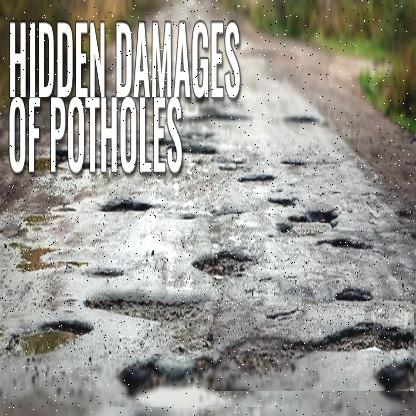damage: (214, 306, 416, 392)
pothole: (186, 233, 266, 297)
pothole_water: (109, 354, 263, 408), (7, 302, 101, 384)
